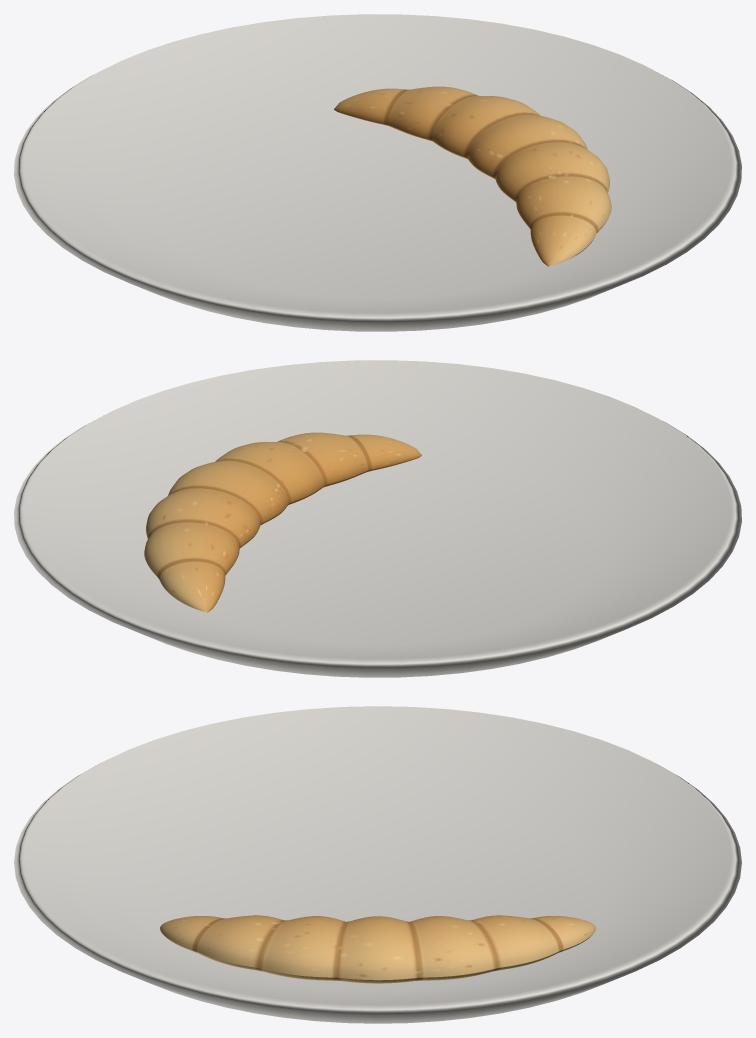
File: medialunaGrasa.glb
3 views of the same model, one above another, from view 1: azimuth 30°, elevation 25°; view 2: azimuth 150°, elevation 25°; view 3: azimuth 270°, elevation 25° (orthographic).
Bounding box in the file's own units: 0.18 × 0.0168 × 0.18.
2 materials, 1 textured.
